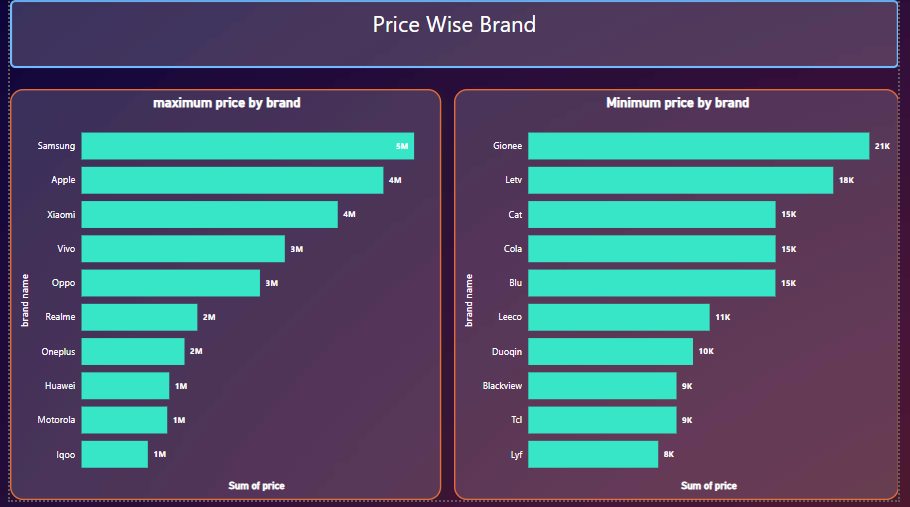

The page's visual inventory and layout, read from the dashboard file:
{"tool":"powerbi","page":{"name":" Price Wise by Brand","canvas":[1280,720],"ordinal":1},"visuals":[{"type":"barChart","title":"Minimum price by brand","fields":{"Category":["smartphones_cleaned_v6.brand_name"],"Y":["Sum(smartphones_cleaned_v6.price)"]},"box":[639.4,128.2,640.8,591.8],"z":0},{"type":"textbox","box":[0,0,1280.2,97.9],"z":1000},{"type":"barChart","title":"maximum price by brand","fields":{"Category":["smartphones_cleaned_v6.brand_name"],"Y":["Sum(smartphones_cleaned_v6.price)"]},"box":[0,128.2,620.6,591.8],"z":2000}]}

Visuals, with their boxes in screenshot pixels (x1, y1, x2, y2), scaled from the page's 1280x720 canvas onto the 910x507 screenshot:
"Minimum price by brand" barChart: <region>455, 90, 909, 506</region>
textbox: <region>0, 0, 909, 69</region>
"maximum price by brand" barChart: <region>0, 90, 441, 506</region>
